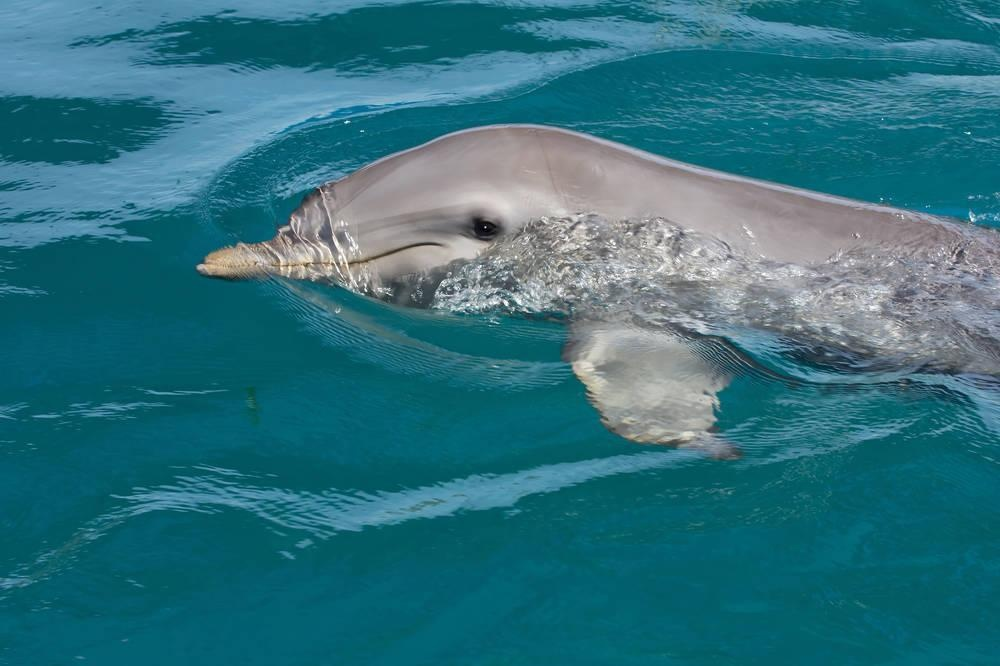fish: (193, 117, 1000, 454)
